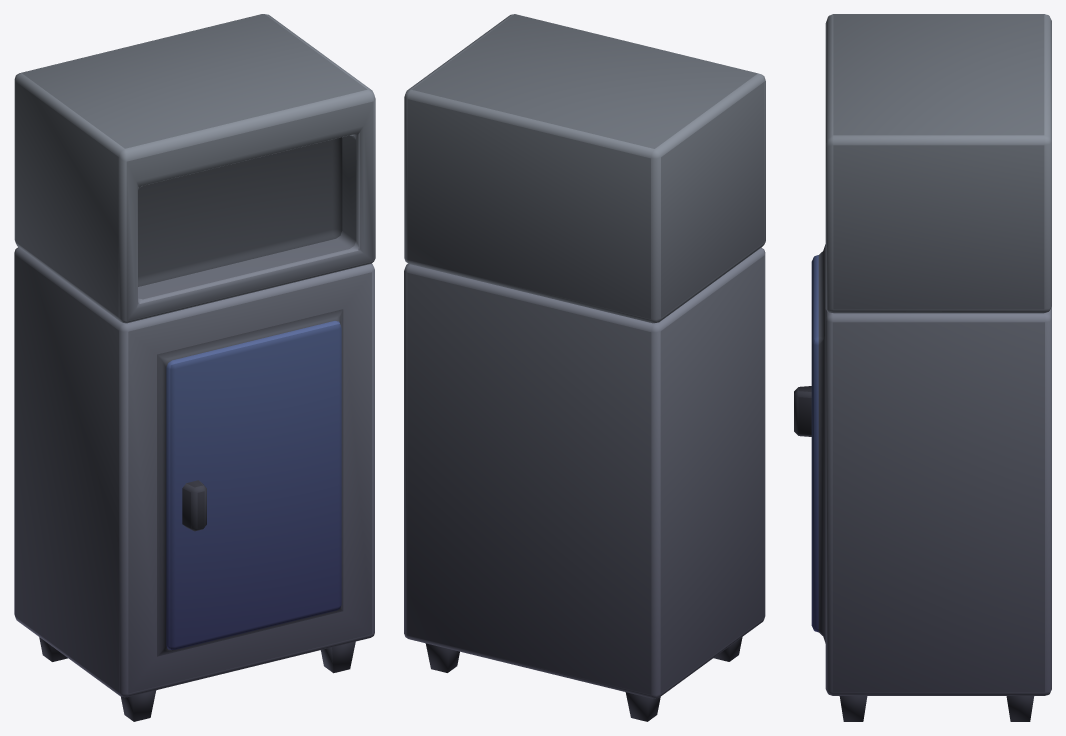
The picture shows the model from 3 angles, left to right: view 1: azimuth 30°, elevation 25°; view 2: azimuth 150°, elevation 25°; view 3: azimuth 270°, elevation 25°; orthographic projection. The views are drawn at different scales.
Parts seen in each view (by area): view 1: Cube.055; view 2: Cube.055; view 3: Cube.055.
Boxes of the visible parts, bbox=[...] form: Cube.055: bbox=[14, 14, 375, 721]; Cube.055: bbox=[404, 14, 765, 721]; Cube.055: bbox=[794, 14, 1051, 721].
Size of the model in its own units: 200 by 434 by 171.
